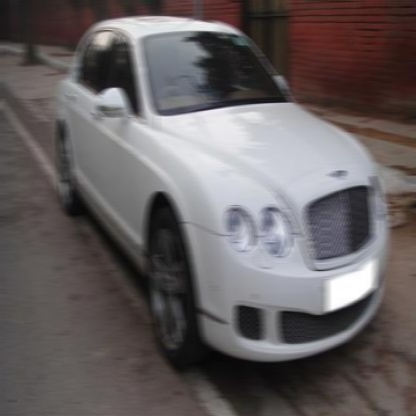Vehicle: (53, 17, 389, 372)
